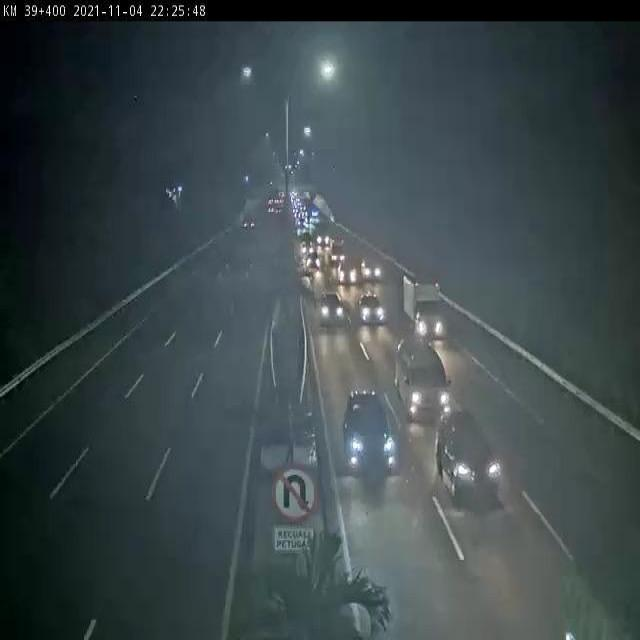bus-s-: (394, 337, 451, 420)
car: (435, 405, 501, 495), (340, 383, 397, 469), (357, 288, 387, 325), (317, 288, 343, 323), (359, 252, 381, 281), (337, 255, 358, 285)
truck-s-: (400, 272, 446, 337)
